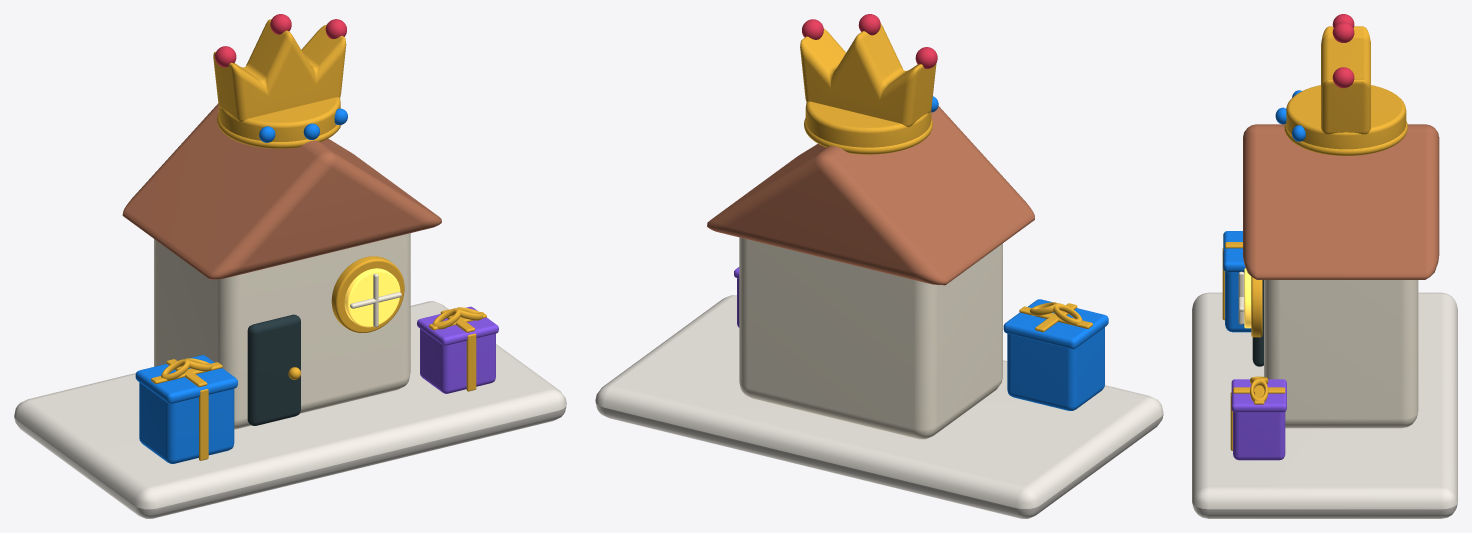
File: hero-legacy.glb
3 views of the same model, side by side, from view 1: azimuth 30°, elevation 25°; view 2: azimuth 150°, elevation 25°; view 3: azimuth 270°, elevation 25° (orthographic). The views are drawn at different scales.
Parts seen in each view (by area): view 1: Small cream legacy platform, Legacy cozy house / Terracotta pitched roof, Legacy cozy house / Cream house, Heir crown / Three rounded crown points, Legacy cozy house / Front door, Blue heir gift wrapped box, Violet heir gift wrapped box, Heir crown / Gold crown band, Blue heir gift lid, Legacy cozy house / Round warm window, Legacy cozy house / Round window gold surround, Violet heir gift lid (+2 smaller); view 2: Small cream legacy platform, Legacy cozy house / Cream house, Legacy cozy house / Terracotta pitched roof, Heir crown / Three rounded crown points, Blue heir gift wrapped box, Heir crown / Gold crown band, Blue heir gift lid, Heir crown / Rounded crown lower rim; view 3: Small cream legacy platform, Legacy cozy house / Terracotta pitched roof, Legacy cozy house / Cream house, Heir crown / Three rounded crown points, Heir crown / Gold crown band, Violet heir gift wrapped box, Violet heir gift lid, Blue heir gift wrapped box, Heir crown / Rounded crown lower rim, Blue heir gift lid, Legacy cozy house / Round window gold surround, Legacy cozy house / Front door (+3 smaller).
Boxes of the visible parts, x1,y1,x2,y2 form: Small cream legacy platform: (14,301,566,518); Legacy cozy house / Terracotta pitched roof: (122,103,441,279); Legacy cozy house / Cream house: (154,233,410,429); Heir crown / Three rounded crown points: (213,19,346,122); Legacy cozy house / Front door: (247,314,300,425); Blue heir gift wrapped box: (139,382,234,463); Violet heir gift wrapped box: (420,328,495,393); Heir crown / Gold crown band: (218,97,340,141); Blue heir gift lid: (135,355,237,403); Legacy cozy house / Round warm window: (344,268,400,327); Legacy cozy house / Round window gold surround: (331,256,404,332); Violet heir gift lid: (417,306,498,345); Small cream legacy platform: (595,295,1163,518); Legacy cozy house / Cream house: (739,237,1002,439); Legacy cozy house / Terracotta pitched roof: (707,106,1034,285); Heir crown / Three rounded crown points: (800,23,936,127); Blue heir gift wrapped box: (1007,327,1104,410); Heir crown / Gold crown band: (805,101,931,147); Blue heir gift lid: (1003,299,1108,349); Heir crown / Rounded crown lower rim: (804,118,932,154); Small cream legacy platform: (1192,292,1457,518); Legacy cozy house / Terracotta pitched roof: (1243,124,1439,279); Legacy cozy house / Cream house: (1264,280,1418,428); Heir crown / Three rounded crown points: (1321,26,1370,134); Heir crown / Gold crown band: (1286,85,1406,149); Violet heir gift wrapped box: (1233,412,1285,460); Violet heir gift lid: (1231,379,1286,412); Blue heir gift wrapped box: (1225,271,1251,332); Heir crown / Rounded crown lower rim: (1284,121,1407,155); Blue heir gift lid: (1223,231,1245,272); Legacy cozy house / Round window gold surround: (1251,277,1262,337); Legacy cozy house / Front door: (1252,280,1263,366).
Bounding box in the file's own units: 2.15 × 1.93 × 1.17.
